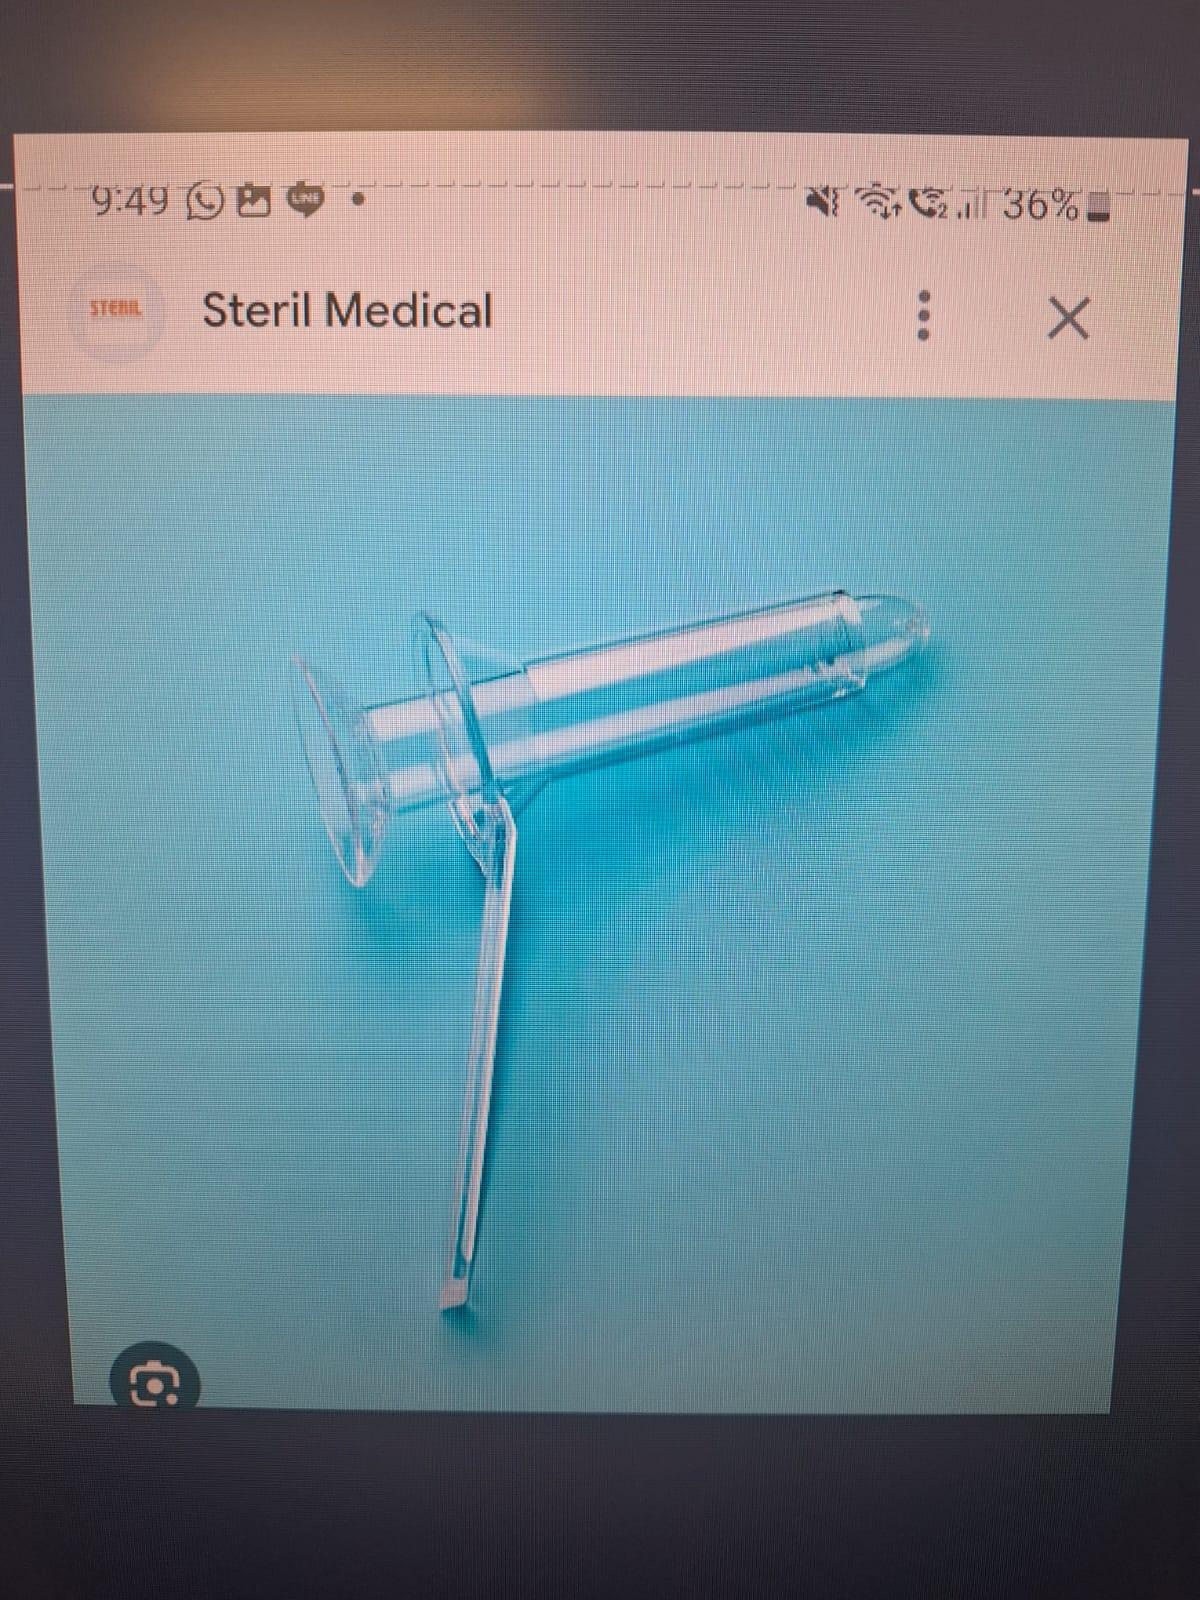Protoscope: (275, 590, 957, 1340)
